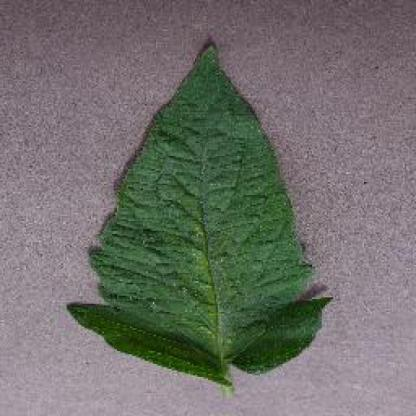Tomato_Spider_Mites: (70, 46, 330, 377)
